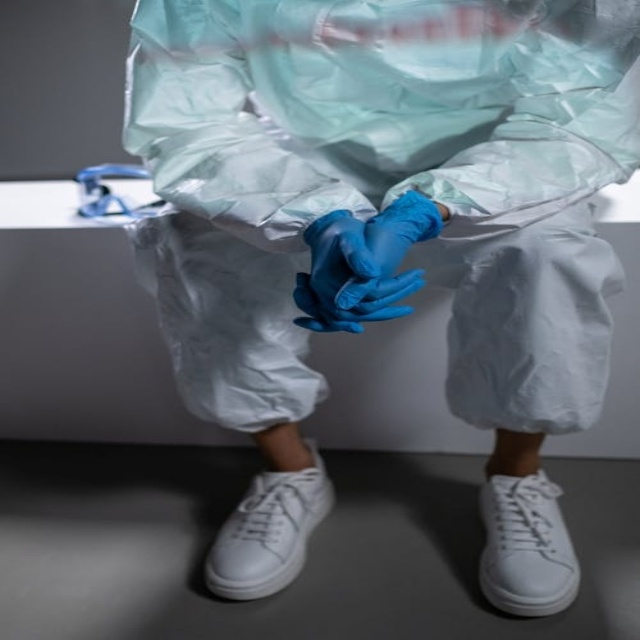Guantes: (276, 173, 461, 340)
